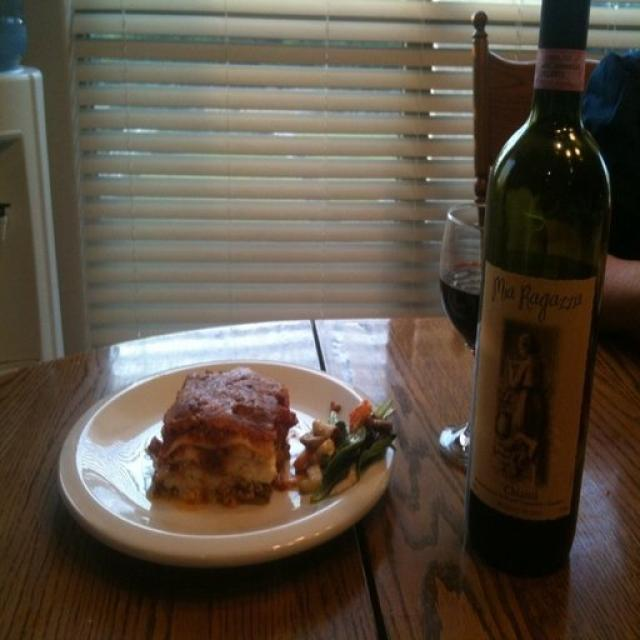Lasagna: (150, 370, 296, 508)
